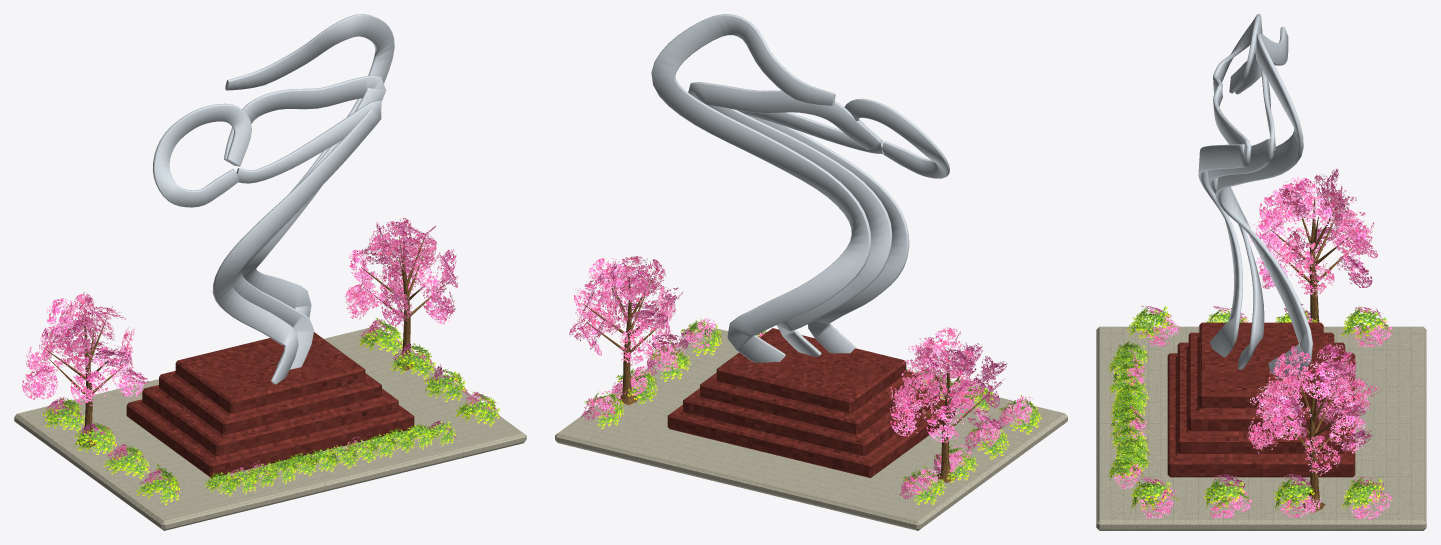
File: P05_sculpture_v2.glb
3 renders of one model, left to right at view 1: azimuth 30°, elevation 25°; view 2: azimuth 150°, elevation 25°; view 3: azimuth 270°, elevation 25°, orthographic. The views are drawn at different scales.
Visible parts, largest first — view 1: GAME_V2_Sculpture_site, GAME_V2_Brushed_sculpture_steel.002, GAME_Pixel red granite, GAME_V2_Blossom_cutout, GAME_V2_Leaf_cutout, GAME_V2_Bark; view 2: GAME_V2_Brushed_sculpture_steel.002, GAME_V2_Sculpture_site, GAME_Pixel red granite, GAME_V2_Blossom_cutout, GAME_V2_Leaf_cutout, GAME_V2_Bark; view 3: GAME_V2_Sculpture_site, GAME_V2_Blossom_cutout, GAME_Pixel red granite, GAME_V2_Brushed_sculpture_steel.002, GAME_V2_Leaf_cutout, GAME_V2_Bark.
Boxes of the visible parts, x1,y1,x2,y2 form: GAME_V2_Sculpture_site: (14,326,526,530); GAME_V2_Brushed_sculpture_steel.002: (152,14,394,384); GAME_Pixel red granite: (126,332,414,477); GAME_V2_Blossom_cutout: (22,218,499,493); GAME_V2_Leaf_cutout: (42,317,500,505); GAME_V2_Bark: (46,236,437,447); GAME_V2_Brushed_sculpture_steel.002: (651,14,949,362); GAME_V2_Sculpture_site: (555,326,1067,530); GAME_Pixel red granite: (667,328,955,477); GAME_V2_Blossom_cutout: (569,256,1034,499); GAME_V2_Leaf_cutout: (584,318,1041,504); GAME_V2_Bark: (583,276,987,482); GAME_V2_Sculpture_site: (1096,326,1426,530); GAME_V2_Blossom_cutout: (1113,169,1392,519); GAME_Pixel red granite: (1167,322,1355,477); GAME_V2_Brushed_sculpture_steel.002: (1198,14,1312,379); GAME_V2_Leaf_cutout: (1107,305,1392,509); GAME_V2_Bark: (1269,199,1352,512).
Bounding box in the file's own units: 5.59 × 4.83 × 3.3.
Materials: 6 (5 with a texture image).
